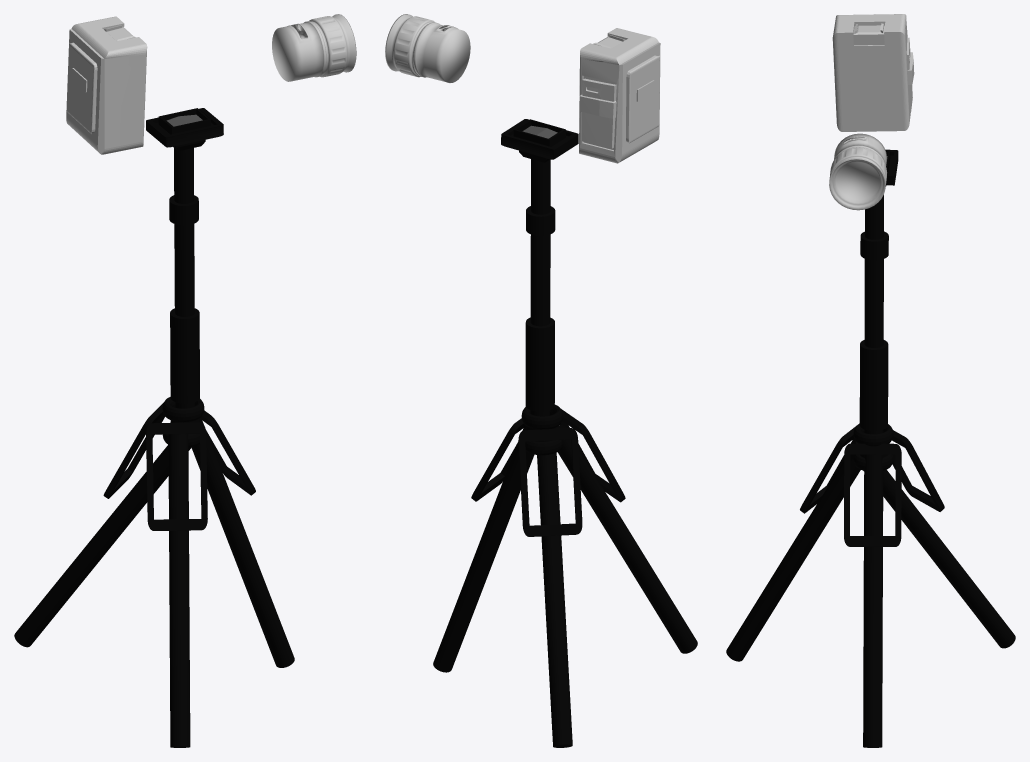
Rendered from cameraBase.obj.
The picture shows the model from 3 angles, left to right: view 1: azimuth 30°, elevation 25°; view 2: azimuth 150°, elevation 25°; view 3: azimuth 270°, elevation 25°; orthographic projection. The views are drawn at different scales.
Visible parts, largest first — view 1: EXPORT_Cube.006, EXPORT_Cylinder.011, EXPORT_Cylinder.012, EXPORT_Cylinder.010, EXPORT_Cylinder.039, EXPORT_Cylinder.017, EXPORT_Cylinder.009, EXPORT_Cube.011, EXPORT_Cube.010, EXPORT_Cube.008, EXPORT_Cube.009, EXPORT_Cylinder.016 (+1 smaller); view 2: EXPORT_Cube.006, EXPORT_Cylinder.010, EXPORT_Cylinder.011, EXPORT_Cylinder.012, EXPORT_Cylinder.039, EXPORT_Cylinder.017, EXPORT_Cylinder.009, EXPORT_Cube.008, EXPORT_Cube.010, EXPORT_Cube.011, EXPORT_Cube.009, EXPORT_Cylinder.016 (+1 smaller); view 3: EXPORT_Cube.006, EXPORT_Cylinder.012, EXPORT_Cylinder.011, EXPORT_Cylinder.010, EXPORT_Cylinder.039, EXPORT_Cylinder.017, EXPORT_Cylinder.009, EXPORT_Cube.009, EXPORT_Cube.008, EXPORT_Cube.011, EXPORT_Cylinder.016, EXPORT_Torus.003.
Boxes of the visible parts, left/top/right/bottom form: EXPORT_Cube.006: left=66, top=16, right=147, bottom=154; EXPORT_Cylinder.011: left=168, top=434, right=190, bottom=747; EXPORT_Cylinder.012: left=191, top=417, right=294, bottom=667; EXPORT_Cylinder.010: left=14, top=445, right=191, bottom=647; EXPORT_Cylinder.039: left=272, top=14, right=356, bottom=81; EXPORT_Cylinder.017: left=174, top=148, right=195, bottom=408; EXPORT_Cylinder.009: left=170, top=308, right=199, bottom=403; EXPORT_Cube.011: left=146, top=422, right=207, bottom=530; EXPORT_Cube.010: left=146, top=108, right=223, bottom=151; EXPORT_Cube.008: left=103, top=402, right=165, bottom=498; EXPORT_Cube.009: left=201, top=410, right=255, bottom=495; EXPORT_Cylinder.016: left=169, top=195, right=198, bottom=225; EXPORT_Cube.006: left=579, top=28, right=660, bottom=163; EXPORT_Cylinder.010: left=537, top=452, right=572, bottom=747; EXPORT_Cylinder.011: left=554, top=425, right=697, bottom=653; EXPORT_Cylinder.012: left=433, top=425, right=534, bottom=672; EXPORT_Cylinder.039: left=385, top=14, right=470, bottom=82; EXPORT_Cylinder.017: left=530, top=159, right=550, bottom=416; EXPORT_Cylinder.009: left=525, top=317, right=554, bottom=411; EXPORT_Cube.008: left=518, top=428, right=582, bottom=536; EXPORT_Cube.010: left=501, top=119, right=578, bottom=162; EXPORT_Cube.011: left=560, top=409, right=625, bottom=502; EXPORT_Cube.009: left=471, top=418, right=524, bottom=501; EXPORT_Cylinder.016: left=526, top=206, right=555, bottom=235; EXPORT_Cube.006: left=832, top=14, right=914, bottom=131; EXPORT_Cylinder.012: left=863, top=454, right=883, bottom=747; EXPORT_Cylinder.011: left=726, top=442, right=860, bottom=661; EXPORT_Cylinder.010: left=863, top=469, right=1015, bottom=648; EXPORT_Cylinder.039: left=829, top=133, right=887, bottom=210; EXPORT_Cylinder.017: left=864, top=195, right=883, bottom=434; EXPORT_Cylinder.009: left=859, top=340, right=888, bottom=430; EXPORT_Cube.009: left=844, top=443, right=901, bottom=546; EXPORT_Cube.008: left=892, top=430, right=944, bottom=511; EXPORT_Cube.011: left=800, top=423, right=859, bottom=513; EXPORT_Cylinder.016: left=860, top=231, right=888, bottom=260; EXPORT_Torus.003: left=853, top=424, right=893, bottom=446.
Size of the model in its own units: 4.25 by 10.66 by 4.32.
